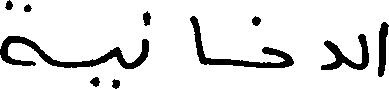X: (0, 0, 42, 70), (263, 42, 291, 72), (190, 11, 204, 69), (323, 35, 340, 74), (380, 17, 388, 81), (141, 6, 147, 68), (112, 42, 120, 88), (359, 29, 367, 74)
